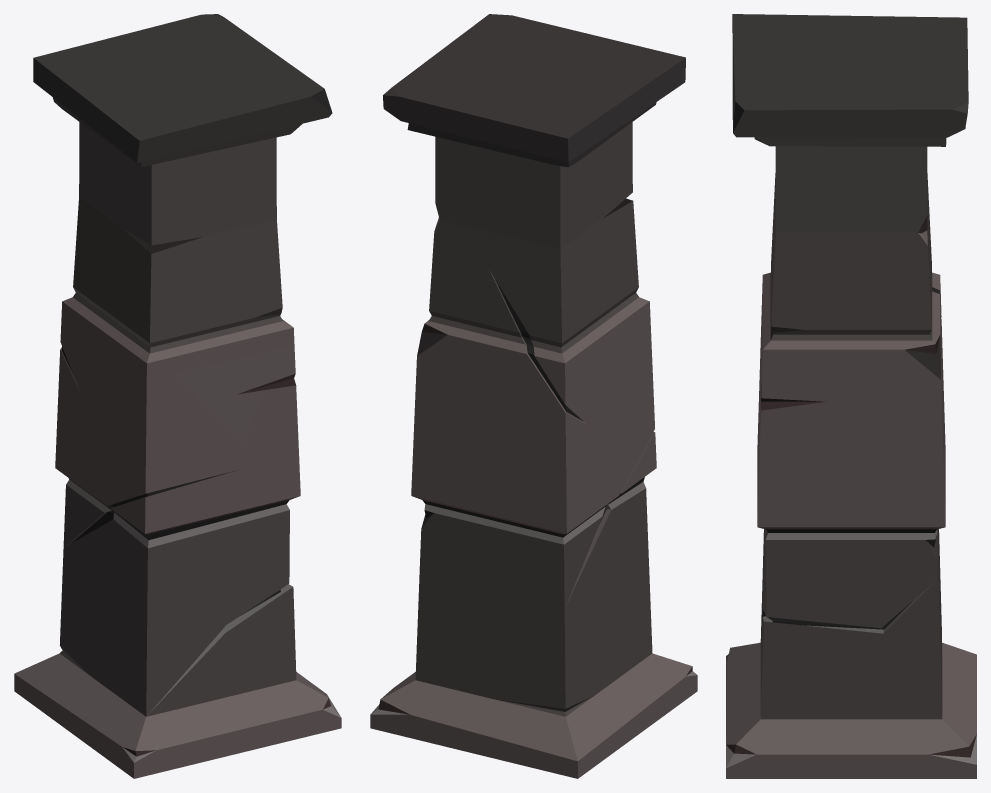
The model's file is Pillar_Quad_Full_01.glb.
The picture shows the model from 3 angles, left to right: view 1: azimuth 30°, elevation 25°; view 2: azimuth 150°, elevation 25°; view 3: azimuth 270°, elevation 25°; orthographic projection. The views are drawn at different scales.
Visible parts, largest first — view 1: Pillar_Quad_Full_01; view 2: Pillar_Quad_Full_01; view 3: Pillar_Quad_Full_01.
Boxes of the visible parts, left/top/right/bottom form: Pillar_Quad_Full_01: left=14, top=14, right=341, bottom=778; Pillar_Quad_Full_01: left=370, top=14, right=697, bottom=778; Pillar_Quad_Full_01: left=726, top=14, right=976, bottom=778.
Size of what is drawn, in the model's own units: 0.682 by 1.99 by 0.682.
Materials: 1 (1 with a texture image).
